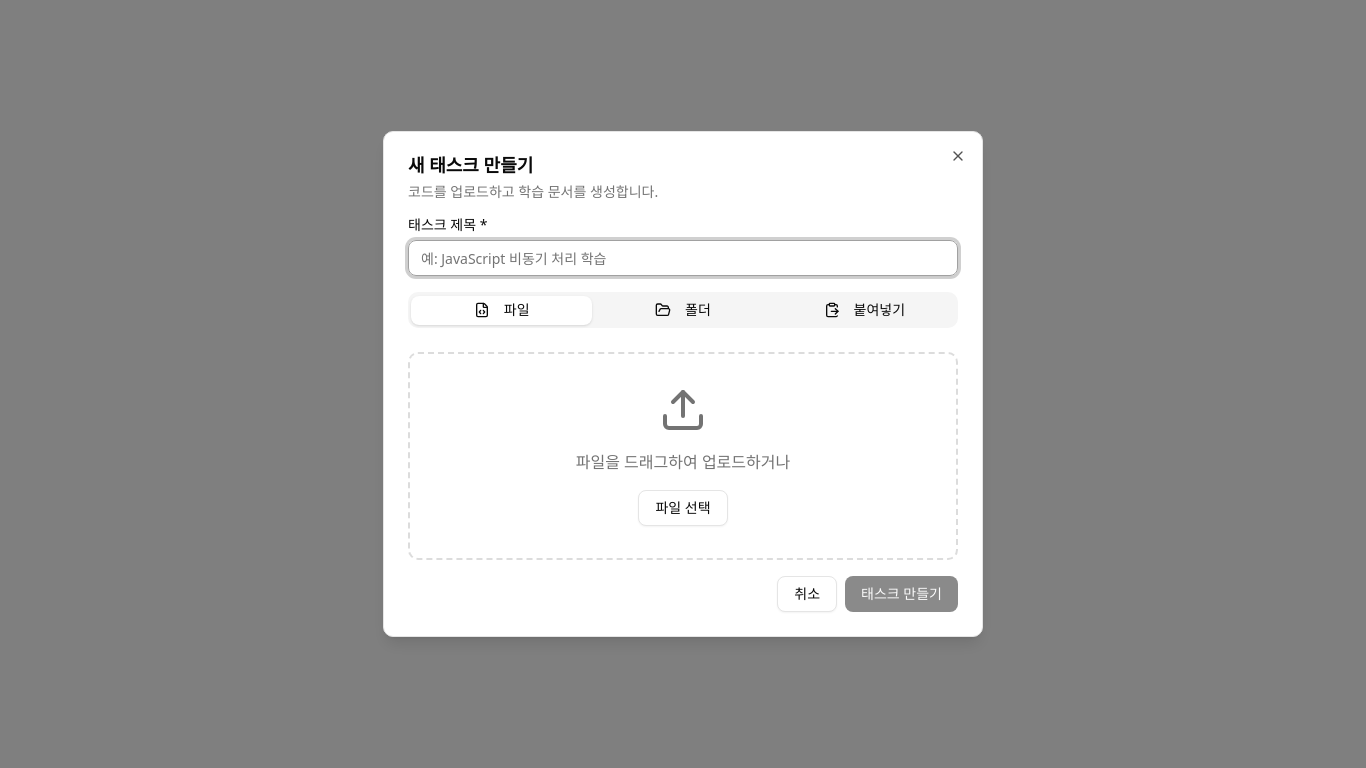
it: CreateTaskModal › tabs navigation › switches to paste code when paste tab clicked
What coordinates should you click on to do the following:
click the tab "붙여넣기"
I would click on:
 (864, 310)
Its box is [774,296,955,324].
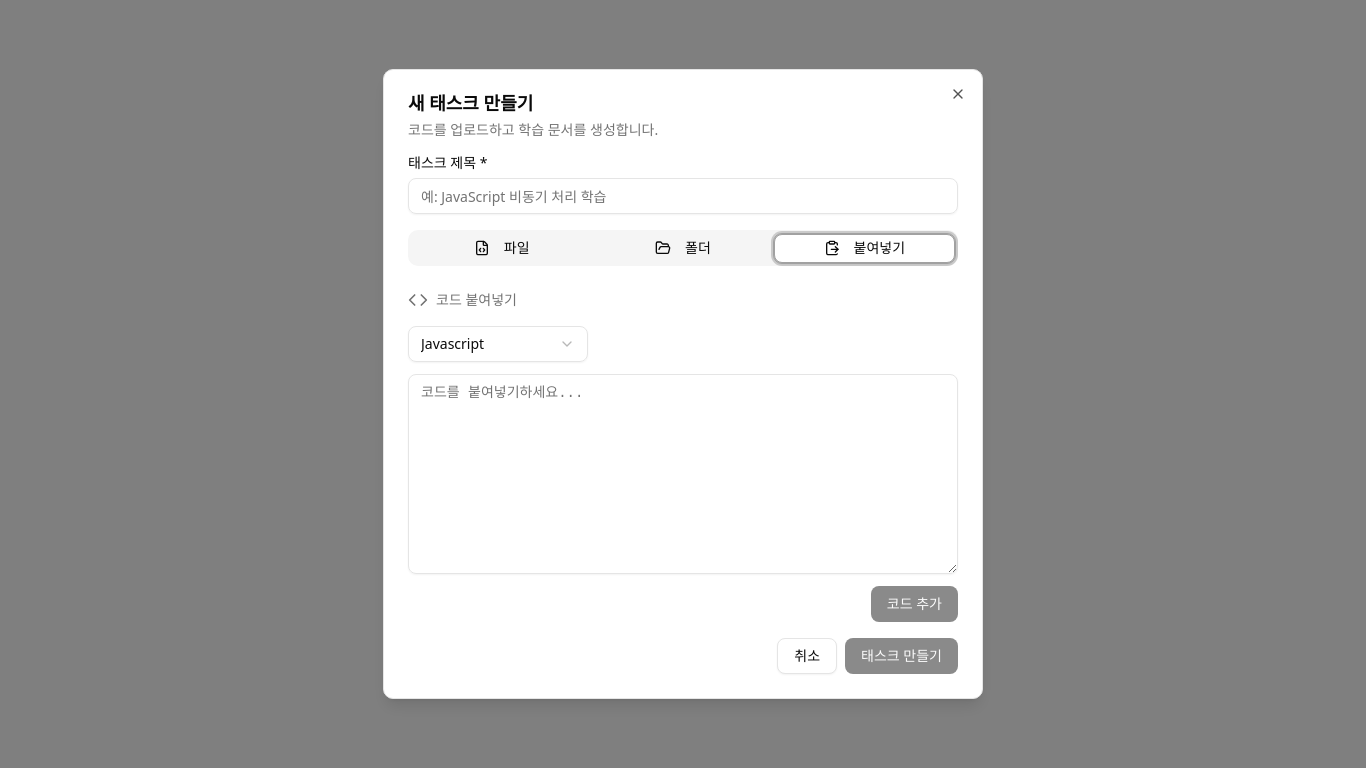
Expected: the text box with placeholder "코드를 붙여넣기하세요..." is shown, [408,374,958,574]
